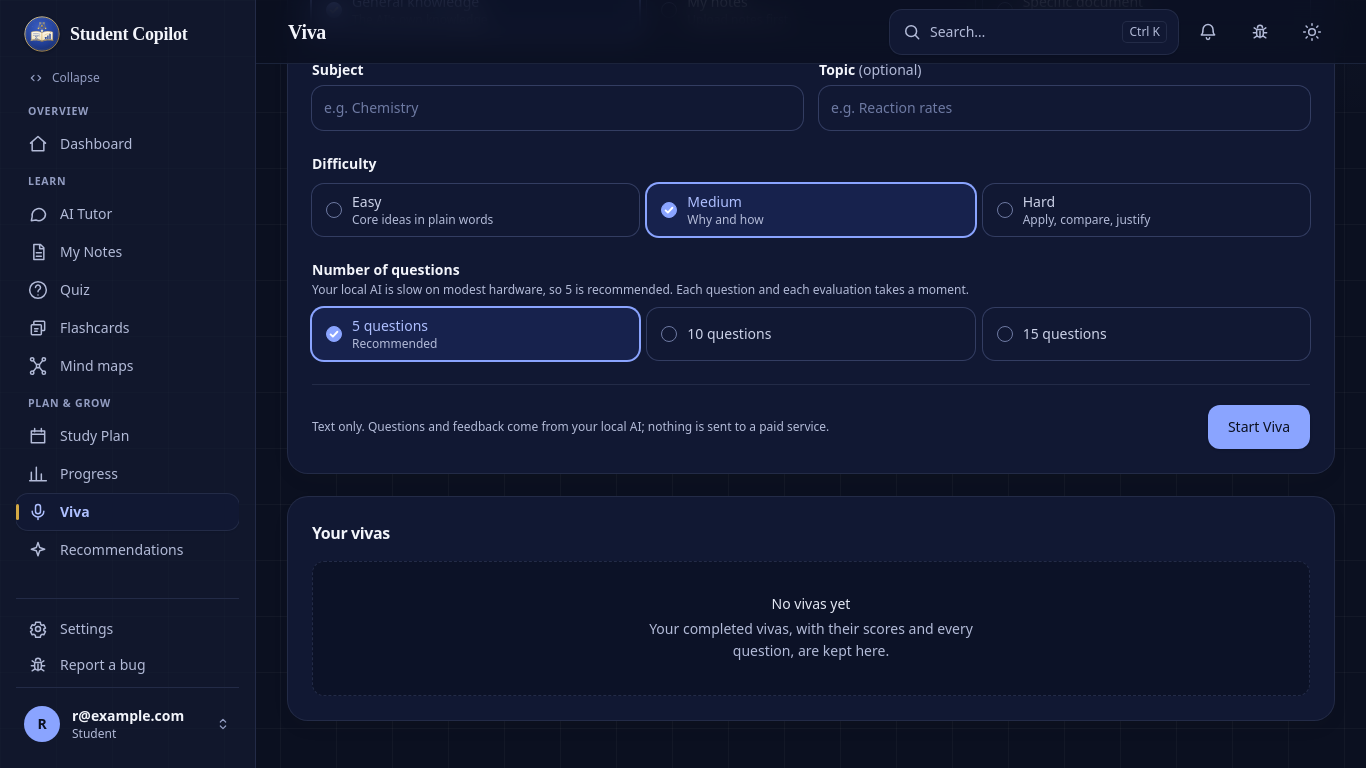
setup › asks for a subject before starting, and sends nothing
The width and height of the screenshot is (1366, 768).
(page scrolled)
Click the button "Start Viva".
click(1259, 427)  # box x1=1208 y1=405 x2=1310 y2=449
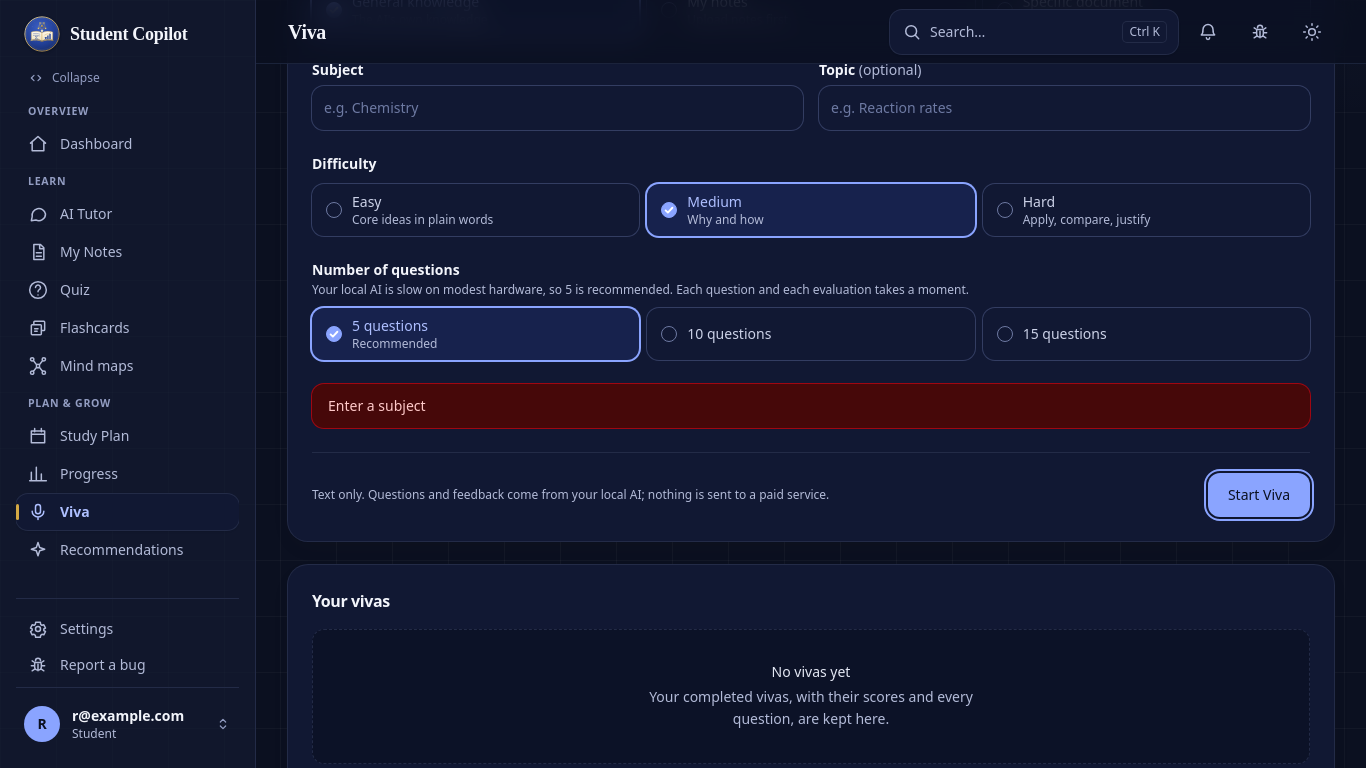
Result: the message reads "Enter a subject" at x1=328 y1=396 x2=426 y2=415
